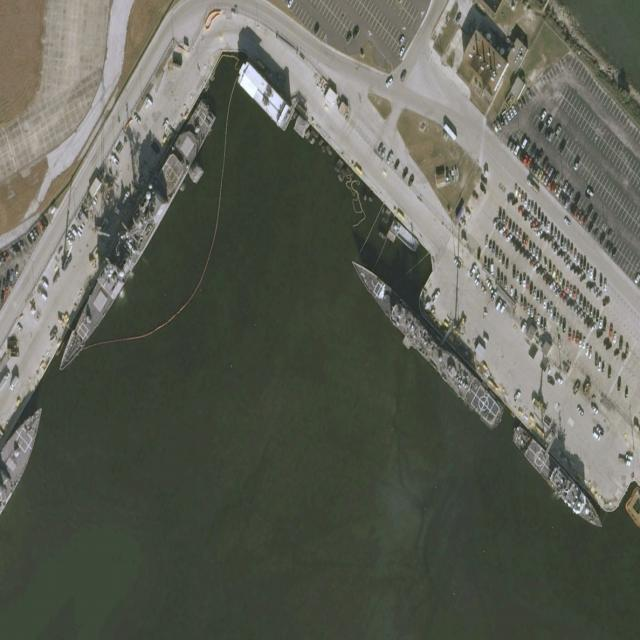Cruiser: (50, 95, 219, 383)
Frigate: (343, 250, 507, 432)
Other Ship: (507, 421, 610, 537)
